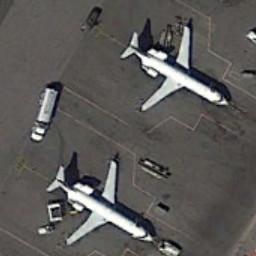Airplane: (115, 18, 236, 123), (40, 157, 162, 255)
